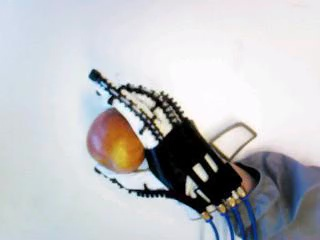apple: (83, 107, 144, 173)
hand: (86, 68, 242, 219)
